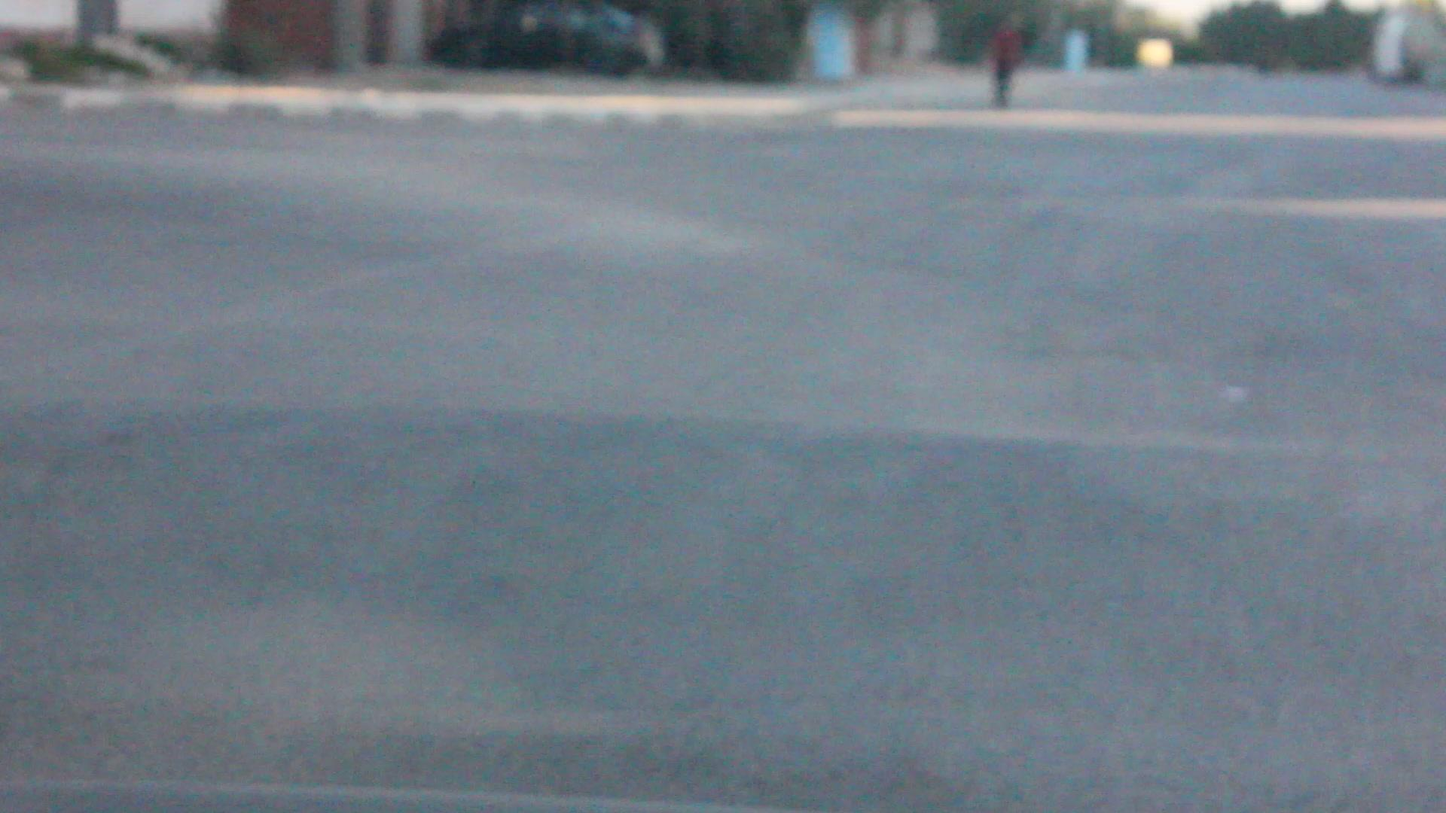Bump: (0, 391, 1446, 632)
